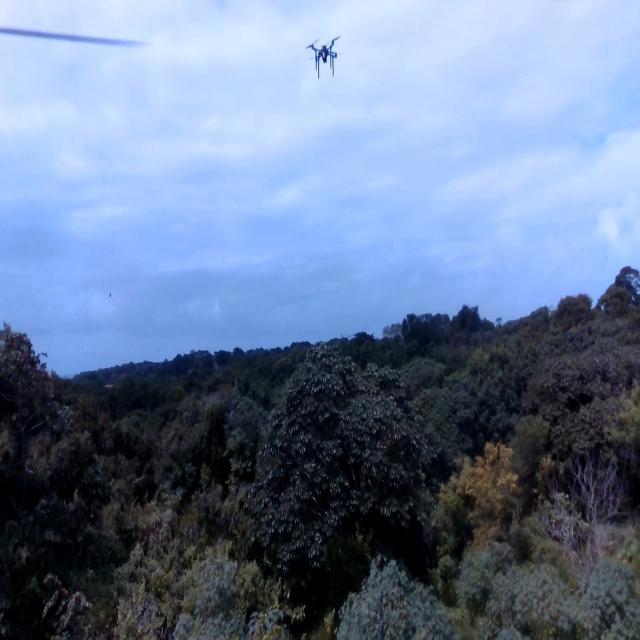-uav-: (299, 31, 350, 86)
